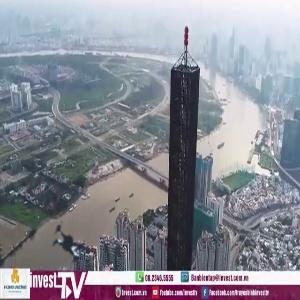drone: (30, 205, 109, 284)
